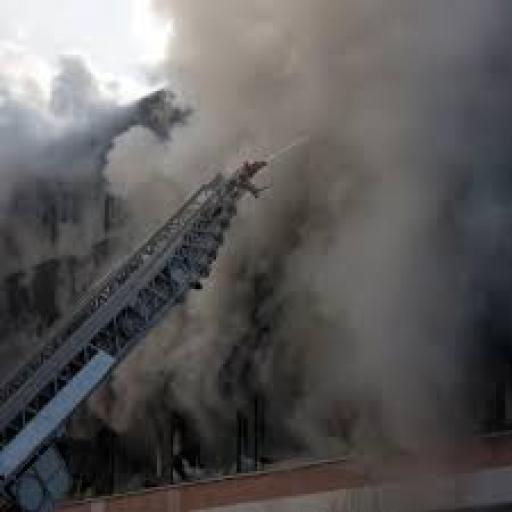smoke: (2, 2, 490, 426)
